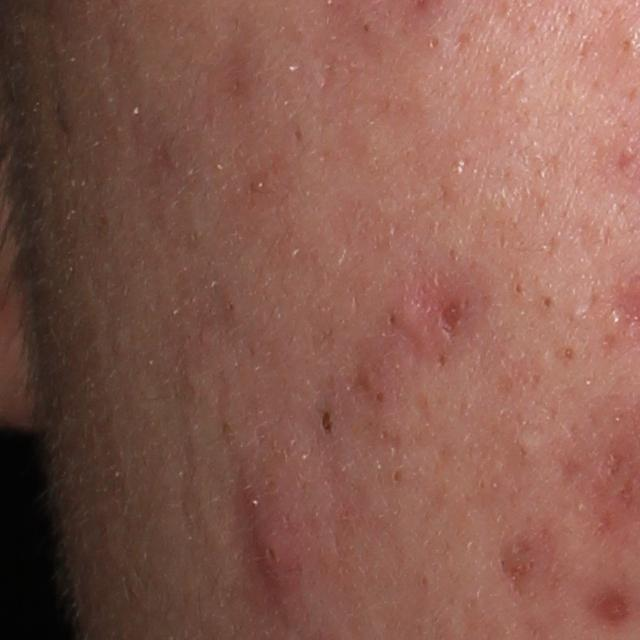atrophic_scar: (494, 522, 560, 598), (439, 290, 466, 340)
comedo: (312, 401, 340, 445), (516, 432, 542, 457), (558, 339, 582, 363), (386, 464, 406, 486), (538, 293, 557, 314), (426, 33, 446, 50), (359, 19, 378, 33)
